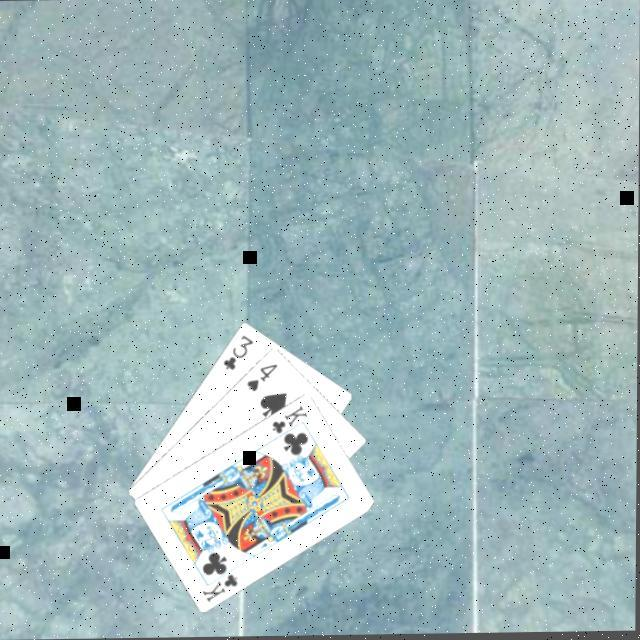3C: (222, 329, 258, 371)
4S: (246, 359, 282, 393)
KC: (271, 400, 313, 442), (201, 562, 243, 603)
